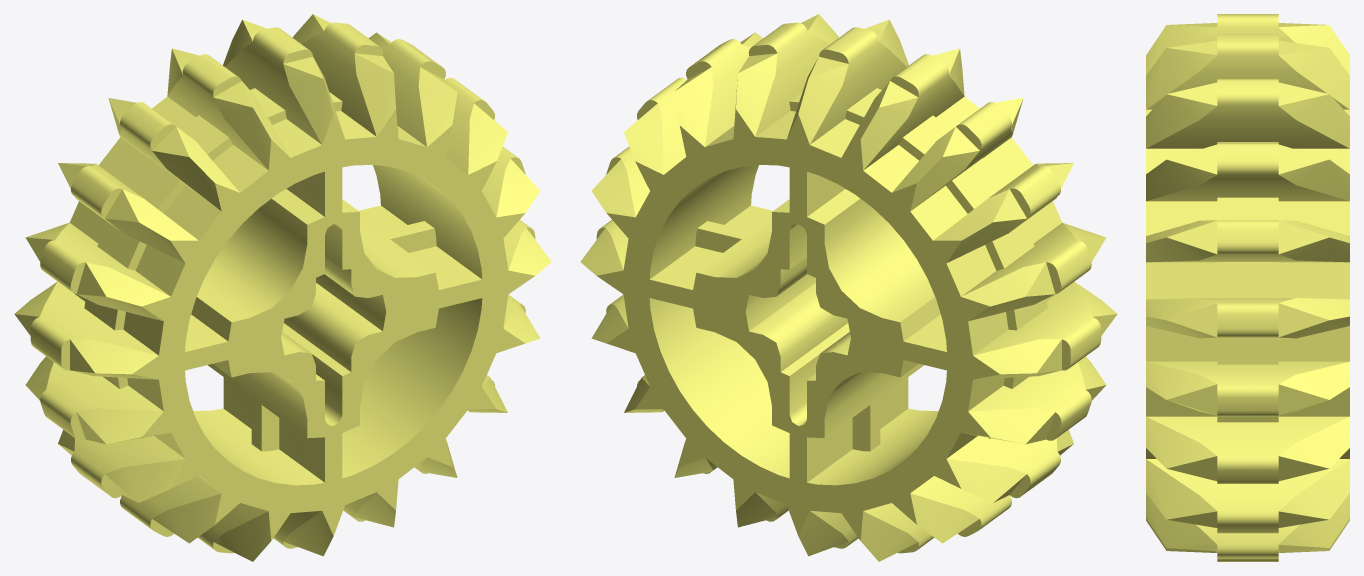
The picture shows the model from 3 angles, left to right: view 1: azimuth 30°, elevation 25°; view 2: azimuth 150°, elevation 25°; view 3: azimuth 270°, elevation 25°; orthographic projection.
Parts seen in each view (by area): view 1: 18575.dat; view 2: 18575.dat; view 3: 18575.dat.
Boxes of the visible parts, x1=… form: 18575.dat: x1=14, y1=14, x2=551, y2=561; 18575.dat: x1=580, y1=14, x2=1117, y2=561; 18575.dat: x1=1146, y1=14, x2=1349, y2=561.
Size of the model in its own units: 0.0216 by 0.0216 by 0.008.
